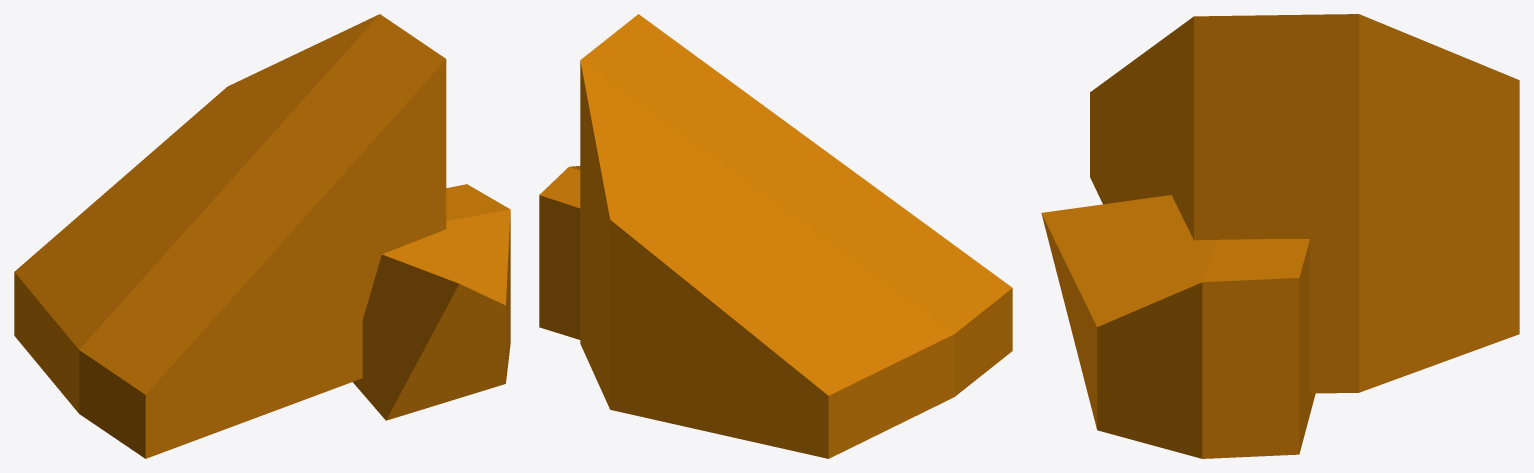
File: brigesRock_Type5_04_mesh_001.fbx
3 renders of one model, left to right at view 1: azimuth 30°, elevation 25°; view 2: azimuth 150°, elevation 25°; view 3: azimuth 270°, elevation 25°, orthographic. The views are drawn at different scales.
Visible parts, largest first — view 1: Rock Type5 04 mesh.001; view 2: Rock Type5 04 mesh.001; view 3: Rock Type5 04 mesh.001.
Boxes of the visible parts, left/top/right/bottom form: Rock Type5 04 mesh.001: left=14, top=14, right=510, bottom=458; Rock Type5 04 mesh.001: left=539, top=14, right=1012, bottom=458; Rock Type5 04 mesh.001: left=1041, top=14, right=1519, bottom=458.
Bounding box in the file's own units: 110 × 77.27 × 83.88.
